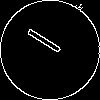I: (25, 25, 72, 62)
